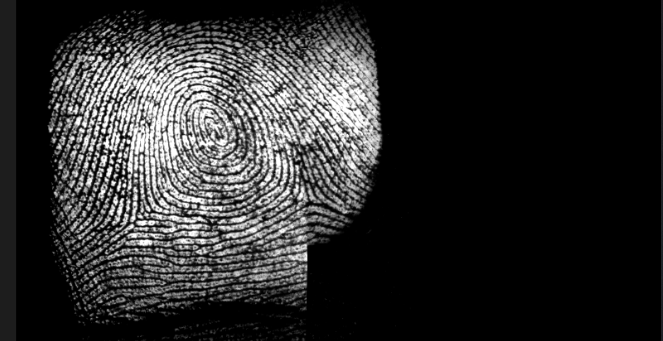deltas: (116, 190, 167, 243), (289, 170, 329, 216)
nucleo: (194, 102, 236, 147)
